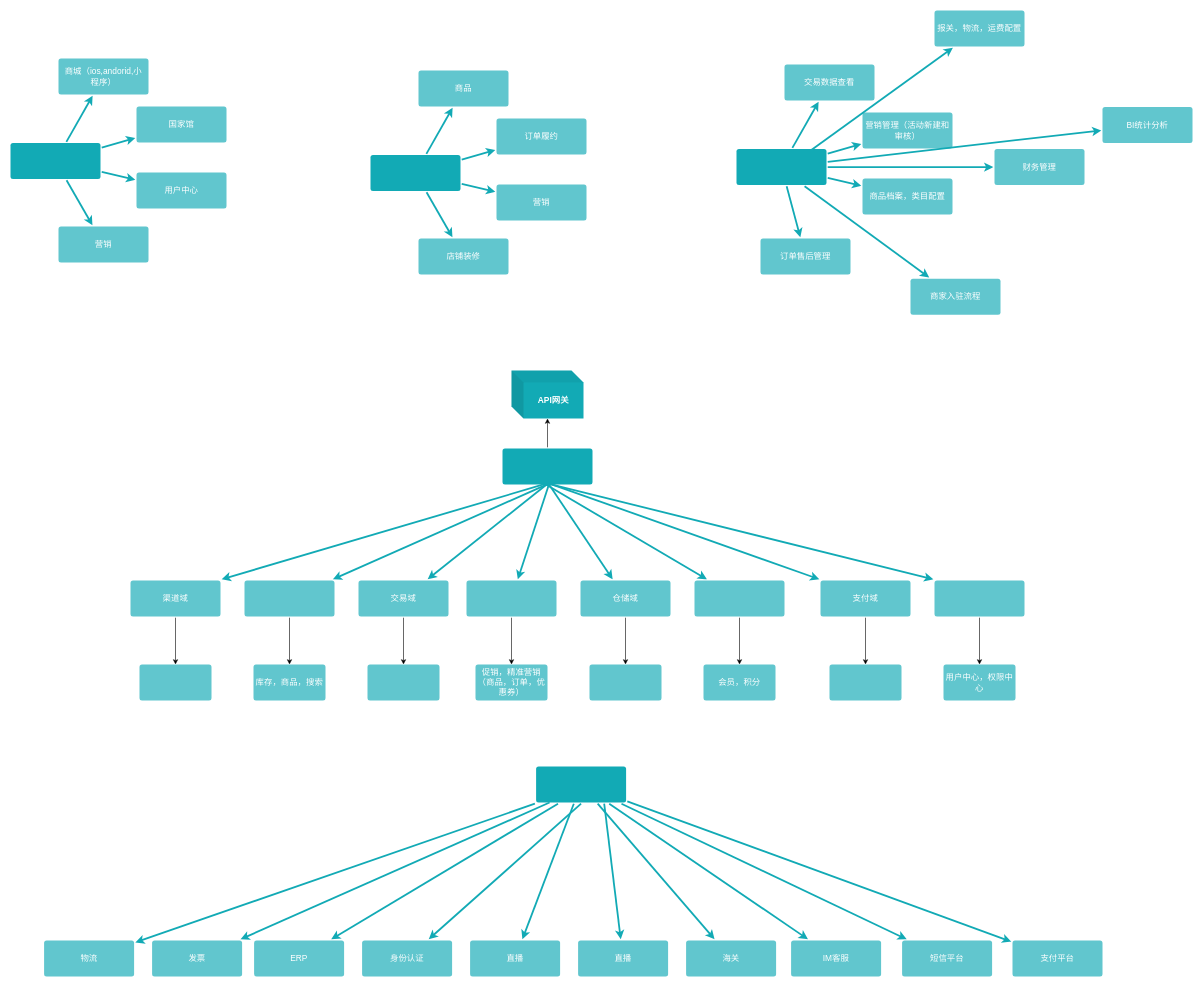
Image size: 1202x986. Some labels were removed from this diagram. The shapes that lost their labels are listed below. From the top down, each one's centre as x and y in pixels, then its label:
At point 55,161: "会员应用".
At point 415,173: "商家后台".
At point 781,167: "运营平台".
At point 547,466: "中台".
At point 289,598: "商品域".
At point 511,598: "营销域".
At point 739,598: "会员域".
At point 979,598: "权限域".
At point 175,682: "商户，供应商，结算，财务".
At point 403,682: "订单，购物车".
At point 625,682: "仓储，物流".
At point 865,682: "支付宝，微信，银联".
At point 581,784: "三方交换服务".
